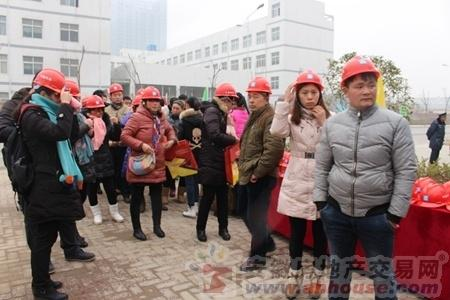helmet: (339, 56, 380, 82), (33, 69, 67, 91), (295, 70, 324, 88), (245, 77, 274, 94), (213, 82, 238, 98), (83, 94, 106, 110), (142, 85, 165, 98), (109, 83, 125, 93), (133, 95, 143, 106)
no_wear: (322, 108, 407, 223), (277, 105, 342, 214), (19, 104, 76, 215), (127, 113, 172, 187), (243, 113, 276, 186), (203, 108, 231, 181), (80, 116, 112, 177)
